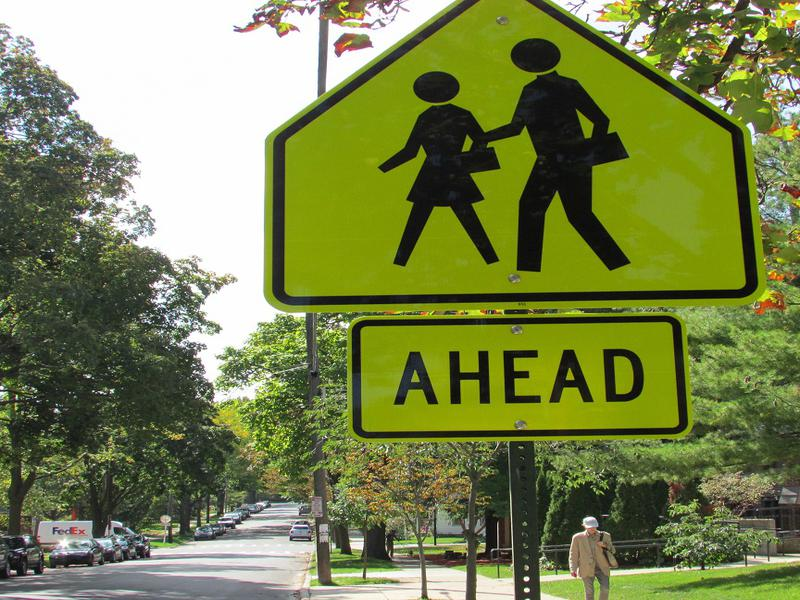slow: (268, 1, 775, 313)
